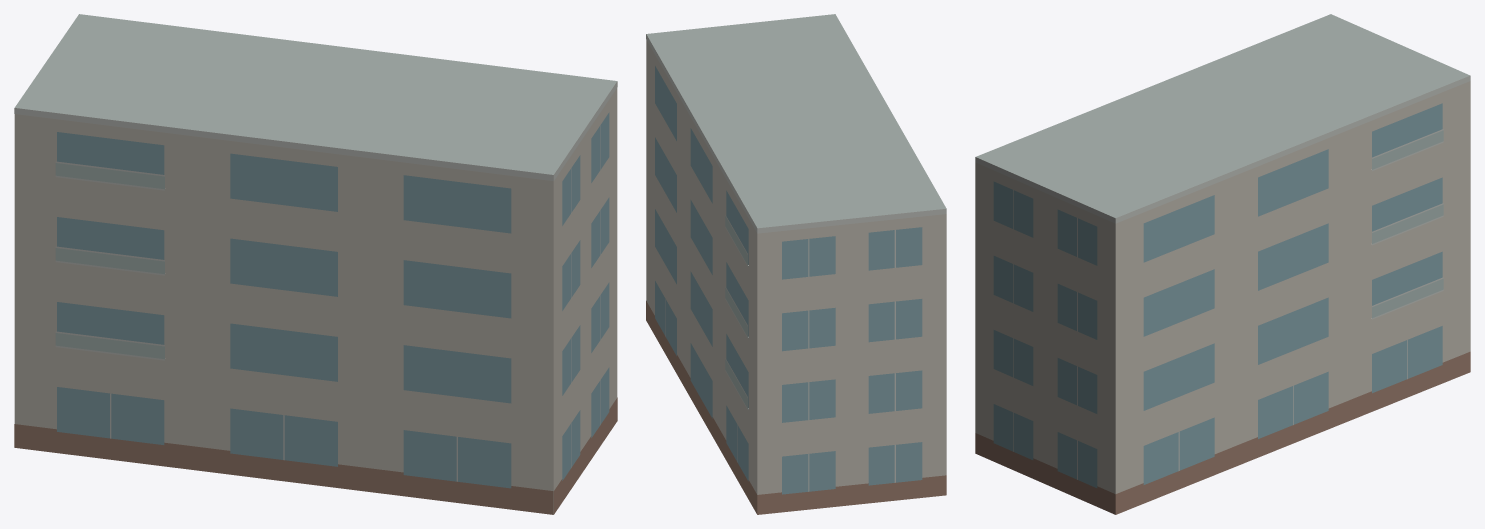
Rendered from survey-upis-32575618.glb.
3 views of the same model, side by side, from view 1: azimuth 30°, elevation 25°; view 2: azimuth 150°, elevation 25°; view 3: azimuth 270°, elevation 25° (orthographic). The views are drawn at different scales.
Visible parts, largest first — view 1: survey-upis-32575618.tmp; view 2: survey-upis-32575618.tmp; view 3: survey-upis-32575618.tmp.
Part boxes in pixels (<box>): survey-upis-32575618.tmp: <box>14,14,617,514</box>; survey-upis-32575618.tmp: <box>646,14,946,514</box>; survey-upis-32575618.tmp: <box>975,14,1470,514</box>.
Bounding box in the file's own units: 19.65 × 13.3 × 20.12.
